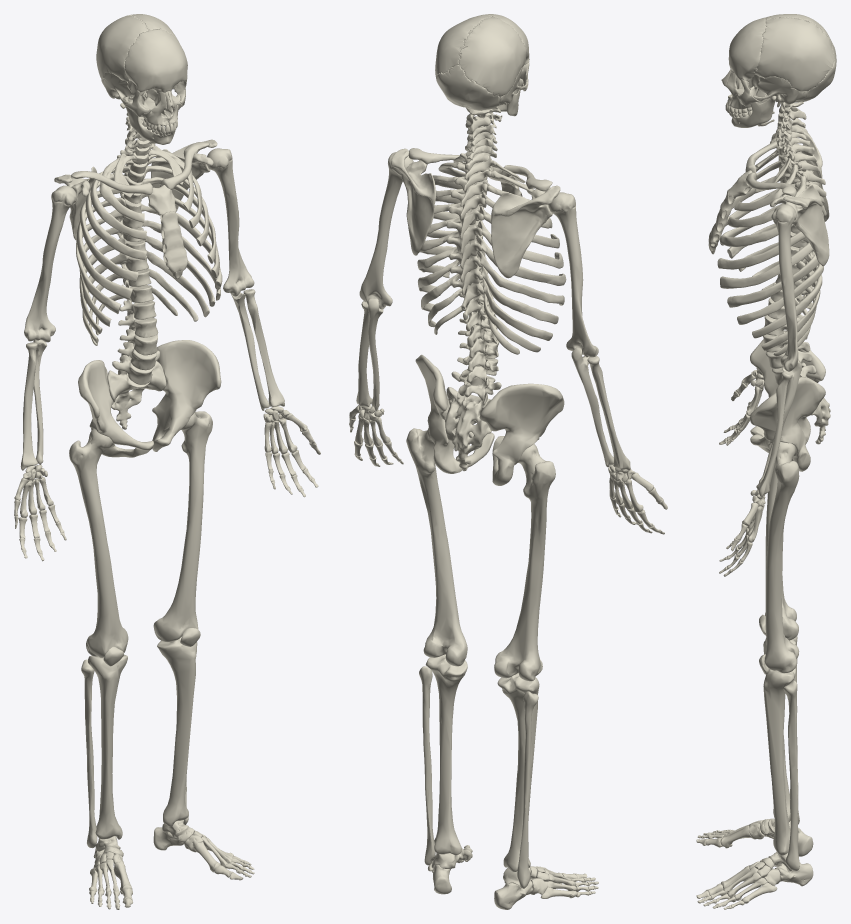
The model's file is male-skeletal.glb.
3 views of the same model, side by side, from view 1: azimuth 30°, elevation 25°; view 2: azimuth 150°, elevation 25°; view 3: azimuth 270°, elevation 25° (orthographic). The views are drawn at different scales.
Parts seen in each view (by area): view 1: FJ3365, FJ3259, FJ3288, FJ3282, FJ3200, FJ3387, FJ3152, FJ3368, FJ3262, FJ3380, FJ3393, FJ3366 (+16 smaller); view 2: FJ3365, FJ3259, FJ3152, FJ3380, FJ3384, FJ3282, FJ3387, FJ3288, FJ3368, FJ3279, FJ3393, FJ3262 (+14 smaller); view 3: FJ3259, FJ3274, FJ3282, FJ3288, FJ3262, FJ3279, FJ3260, FJ3200, FJ3152, FJ3365, FJ3277, FJ3281 (+25 smaller).
Part boxes in pixels (x1,y1,x2,y2): FJ3365: [69, 428, 128, 657]; FJ3259: [153, 411, 212, 642]; FJ3288: [152, 340, 221, 451]; FJ3282: [157, 636, 197, 826]; FJ3200: [125, 28, 187, 93]; FJ3387: [88, 654, 127, 839]; FJ3152: [78, 360, 153, 457]; FJ3368: [24, 185, 76, 342]; FJ3262: [207, 148, 254, 296]; FJ3380: [96, 15, 149, 81]; FJ3393: [107, 361, 166, 429]; FJ3366: [81, 659, 97, 848]; FJ3365: [494, 444, 555, 681]; FJ3259: [406, 428, 467, 666]; FJ3152: [479, 383, 564, 485]; FJ3380: [458, 16, 526, 96]; FJ3384: [491, 185, 560, 278]; FJ3282: [425, 654, 467, 854]; FJ3387: [497, 673, 539, 871]; FJ3288: [415, 354, 494, 473]; FJ3368: [549, 192, 598, 357]; FJ3279: [391, 148, 435, 255]; FJ3393: [445, 387, 491, 471]; FJ3262: [359, 152, 413, 309]; FJ3259: [764, 442, 799, 673]; FJ3274: [755, 17, 834, 91]; FJ3282: [763, 668, 795, 855]; FJ3288: [750, 377, 825, 471]; FJ3262: [771, 204, 798, 371]; FJ3279: [770, 184, 829, 266]; FJ3260: [783, 680, 799, 870]; FJ3200: [728, 17, 767, 80]; FJ3152: [750, 330, 825, 444]; FJ3365: [765, 460, 798, 640]; FJ3277: [756, 371, 792, 497]; FJ3281: [753, 76, 807, 107].
Size of the model in its own units: 0.6478 by 1.71 by 0.254.
